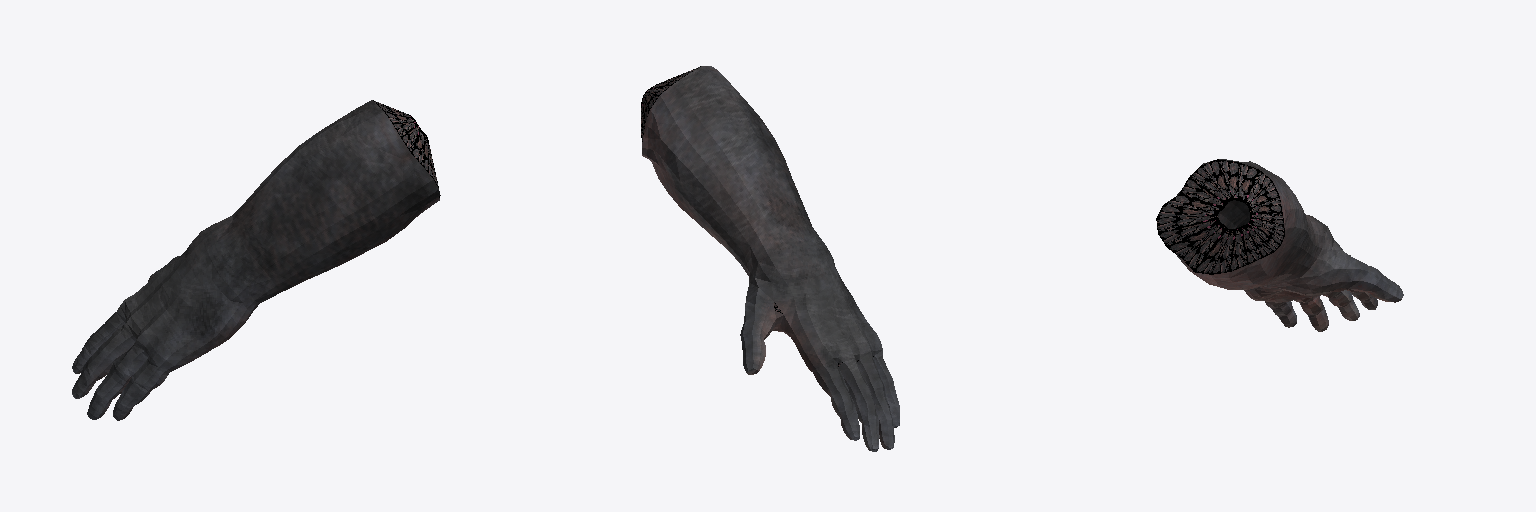
The picture shows the model from 3 angles: view 1: azimuth 30°, elevation 25°; view 2: azimuth 150°, elevation 25°; view 3: azimuth 270°, elevation 25°; orthographic projection.
Parts seen in each view (by area): view 1: Elbow_L_Wrist_L_Cut, Wrist_L_IndexFinger1_L_Cut, MiddleFinger1_L_MiddleFinger2_L_Cut, RingFinger1_L_RingFinger2_L_Cut, RingFinger2_L_RingFinger3_L_Cut, PinkyFinger1_L_PinkyFinger2_L_Cut, MiddleFinger2_L_MiddleFinger3_L_Cut; view 2: Elbow_L_Wrist_L_Cut, Wrist_L_IndexFinger1_L_Cut, ThumbFinger2_L_ThumbFinger3_L_Cut, ThumbFinger3_L_ThumbFinger3_L_Cut, IndexFinger1_L_IndexFinger2_L_Cut, MiddleFinger1_L_MiddleFinger2_L_Cut, MiddleFinger2_L_MiddleFinger3_L_Cut; view 3: Elbow_L_Wrist_L_Cut, Wrist_L_IndexFinger1_L_Cut, ThumbFinger2_L_ThumbFinger3_L_Cut, ThumbFinger3_L_ThumbFinger3_L_Cut.
Part boxes in pixels (x1,y1,x2,y2): Elbow_L_Wrist_L_Cut: (211, 100, 440, 302); Wrist_L_IndexFinger1_L_Cut: (118, 226, 259, 374); MiddleFinger1_L_MiddleFinger2_L_Cut: (102, 323, 136, 360); RingFinger1_L_RingFinger2_L_Cut: (114, 343, 148, 378); RingFinger2_L_RingFinger3_L_Cut: (96, 363, 130, 401); PinkyFinger1_L_PinkyFinger2_L_Cut: (132, 357, 167, 390); MiddleFinger2_L_MiddleFinger3_L_Cut: (84, 345, 114, 380); Elbow_L_Wrist_L_Cut: (641, 66, 823, 275); Wrist_L_IndexFinger1_L_Cut: (747, 242, 882, 371); ThumbFinger2_L_ThumbFinger3_L_Cut: (741, 288, 783, 339); ThumbFinger3_L_ThumbFinger3_L_Cut: (740, 327, 765, 374); IndexFinger1_L_IndexFinger2_L_Cut: (813, 362, 848, 396); MiddleFinger1_L_MiddleFinger2_L_Cut: (838, 359, 869, 395); MiddleFinger2_L_MiddleFinger3_L_Cut: (851, 389, 878, 422); Elbow_L_Wrist_L_Cut: (1156, 159, 1324, 289); Wrist_L_IndexFinger1_L_Cut: (1244, 216, 1350, 302); ThumbFinger2_L_ThumbFinger3_L_Cut: (1332, 250, 1377, 291); ThumbFinger3_L_ThumbFinger3_L_Cut: (1368, 269, 1403, 302).
Bounding box in the file's own units: 3.16 × 2.96 × 2.31.
1 materials, 1 textured.